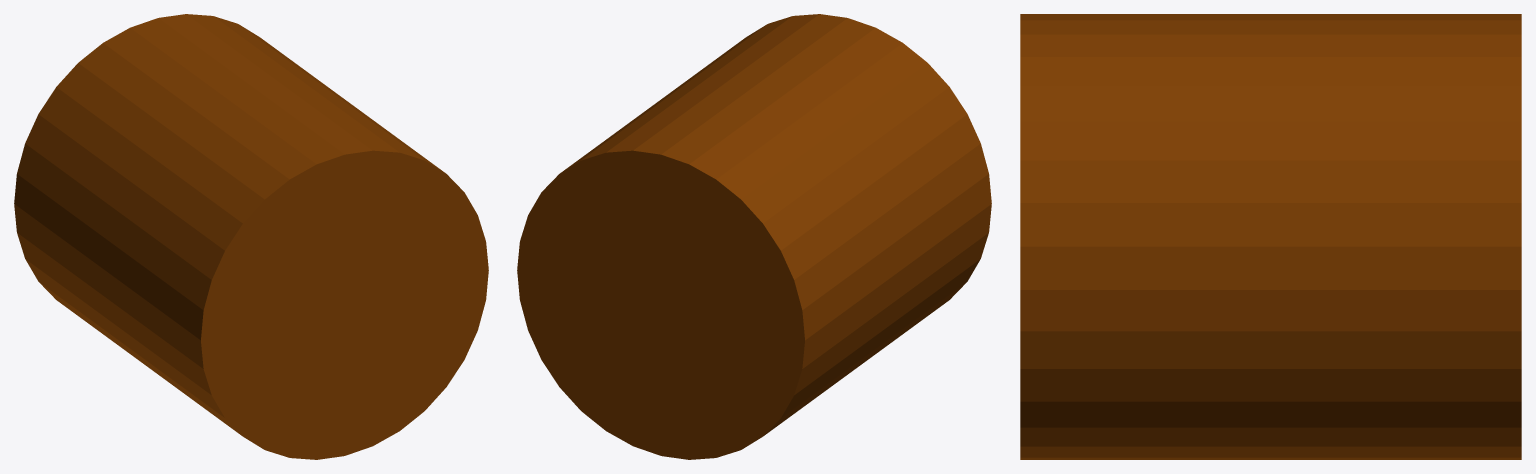
The model's file is peg_cylinder.obj.
The picture shows the model from 3 angles, left to right: view 1: azimuth 30°, elevation 25°; view 2: azimuth 150°, elevation 25°; view 3: azimuth 270°, elevation 25°; orthographic projection. The views are drawn at different scales.
Bounding box in the file's own units: 0.0748 × 0.0748 × 0.084.
